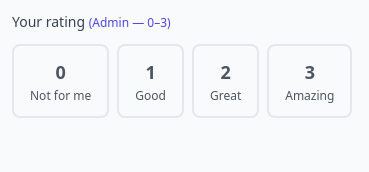
Test: AdminRatingWidget › shows error message when fetch fails
The width and height of the screenshot is (369, 172).
Click the text "1": [151, 72] box [146, 58, 156, 86]
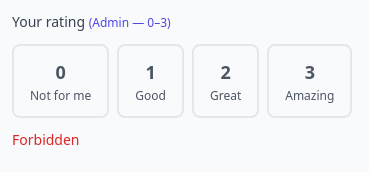
Result: the text "Forbidden" is shown at [12, 130, 80, 149]
